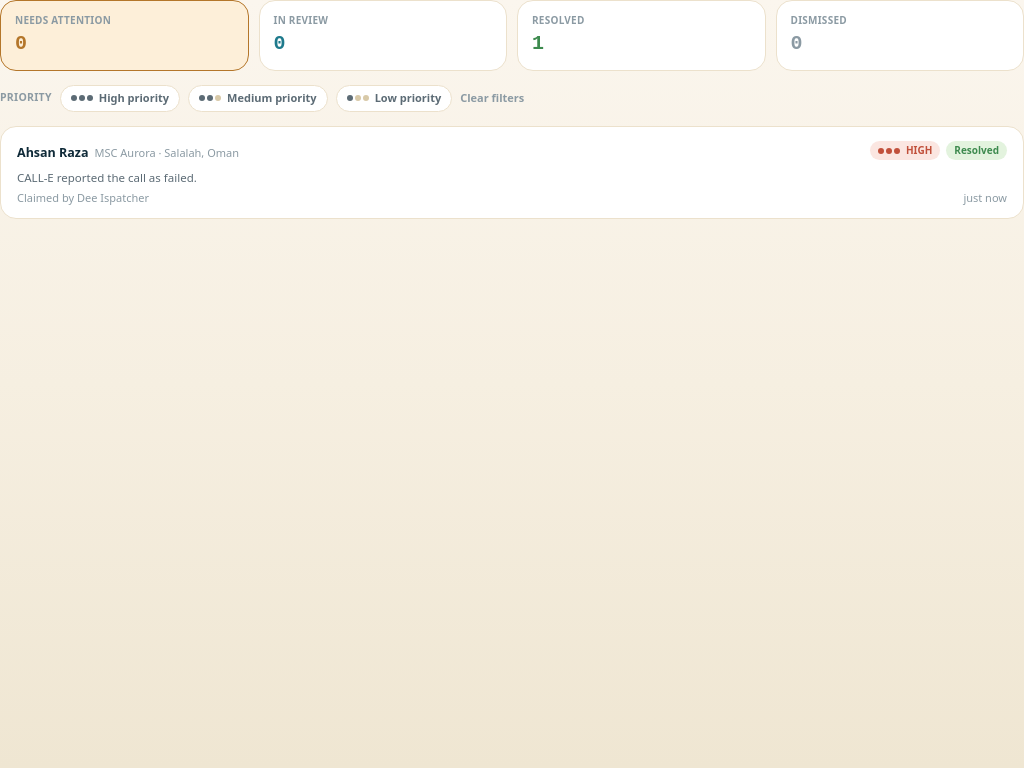
Test: YellowZonePage — terminal states › shows no Claim/Resolve/Dismiss/Release actions for a RESOLVED item
Step 1. Click the text "Ahsan Raza" → click(53, 152), box left=17, top=144, right=88, bottom=160
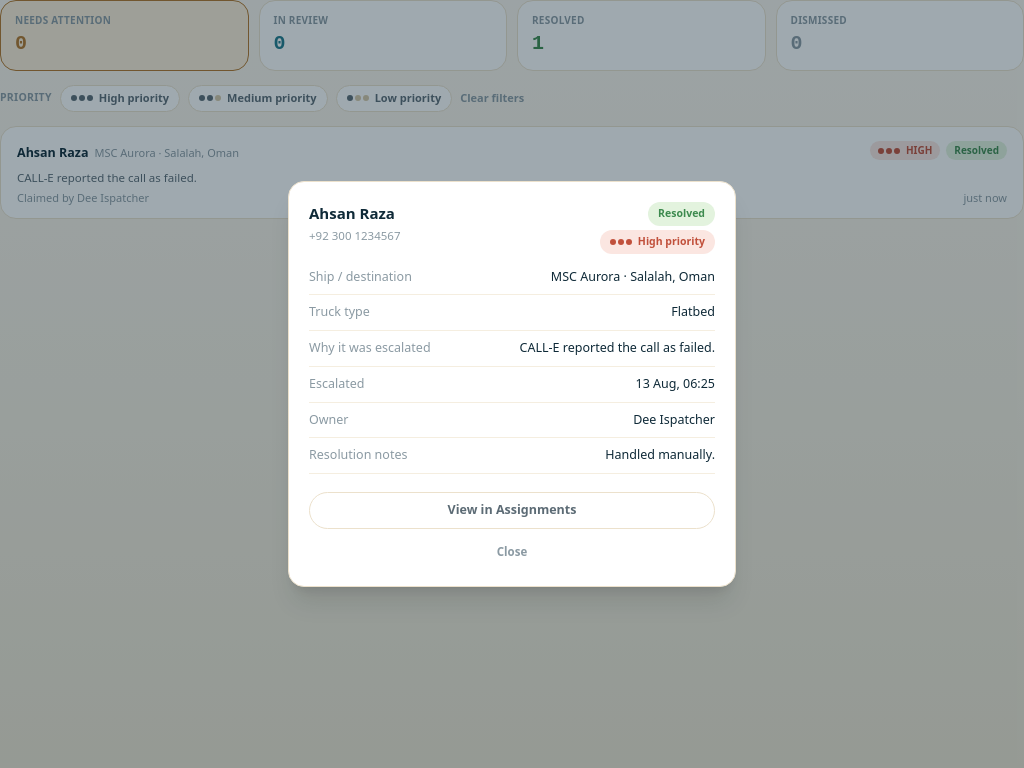
expect the button "View in Assignments" is shown: met, box left=309, top=492, right=715, bottom=529
